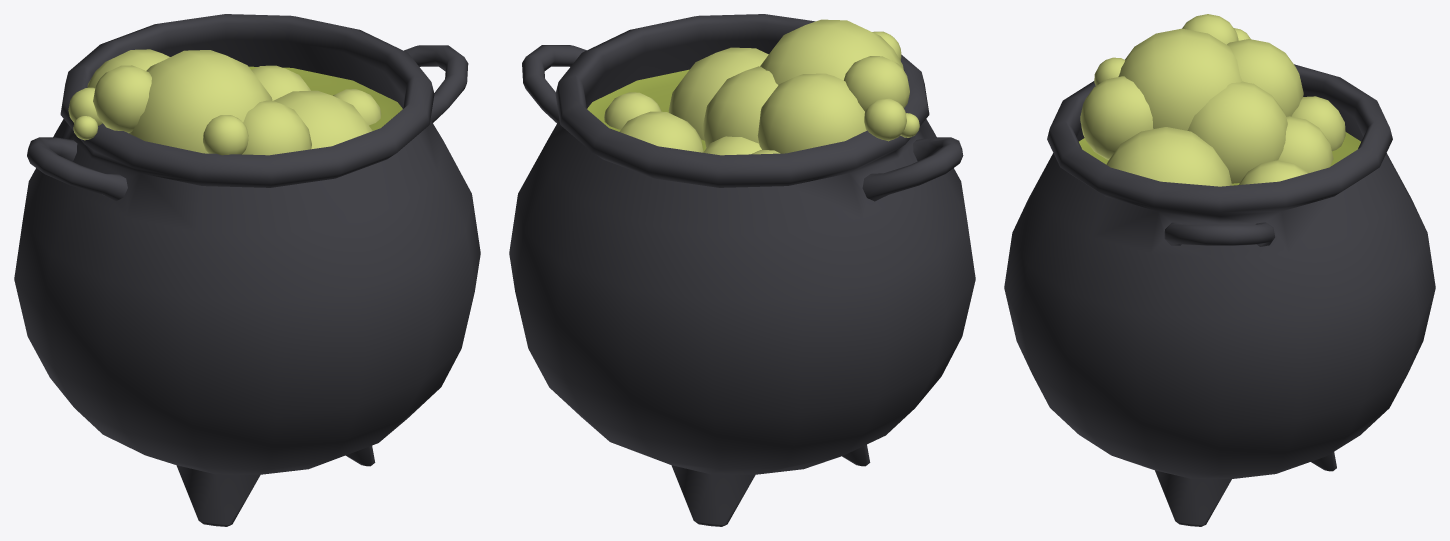
Rendered from Cauldron_3.fbx.
The picture shows the model from 3 angles, left to right: view 1: azimuth 30°, elevation 25°; view 2: azimuth 150°, elevation 25°; view 3: azimuth 270°, elevation 25°; orthographic projection. The views are drawn at different scales.
Parts seen in each view (by area): view 1: Cauldron_3, Bubbles, Liquid; view 2: Cauldron_3, Bubbles, Liquid; view 3: Cauldron_3, Bubbles, Liquid.
Part boxes in pixels (left/top/right/bottom): Cauldron_3: left=14, top=14, right=480, bottom=526; Bubbles: left=68, top=49, right=381, bottom=155; Liquid: left=249, top=66, right=402, bottom=130; Cauldron_3: left=509, top=14, right=975, bottom=526; Bubbles: left=604, top=19, right=919, bottom=155; Liquid: left=587, top=69, right=706, bottom=151; Cauldron_3: left=1004, top=64, right=1435, bottom=526; Bubbles: left=1080, top=14, right=1345, bottom=186; Liquid: left=1079, top=132, right=1360, bottom=185.
Bounding box in the file's own units: 23.52 × 23.81 × 22.54.
